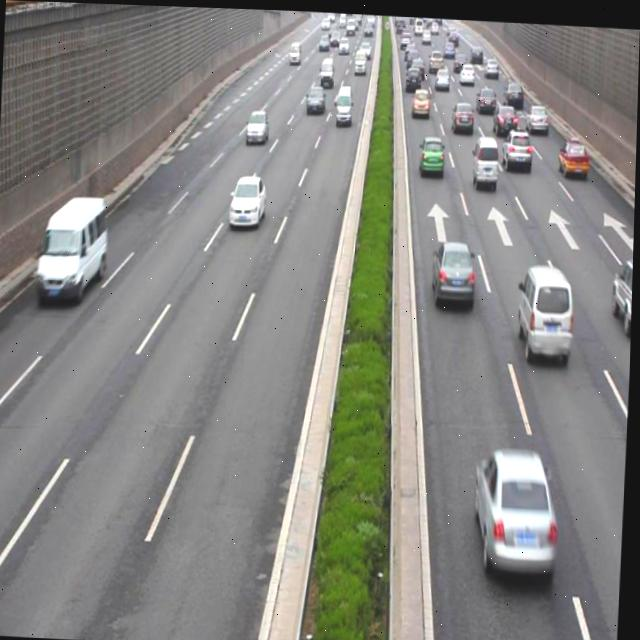car: (472, 446, 560, 576), (431, 236, 475, 305), (228, 171, 268, 227), (609, 250, 635, 334), (502, 124, 531, 170), (556, 133, 587, 174), (418, 130, 445, 175), (492, 98, 515, 133), (450, 97, 473, 130), (245, 107, 268, 139), (525, 101, 548, 129)
truck: (38, 192, 110, 301), (516, 260, 574, 362), (470, 132, 498, 188), (334, 82, 352, 123)
